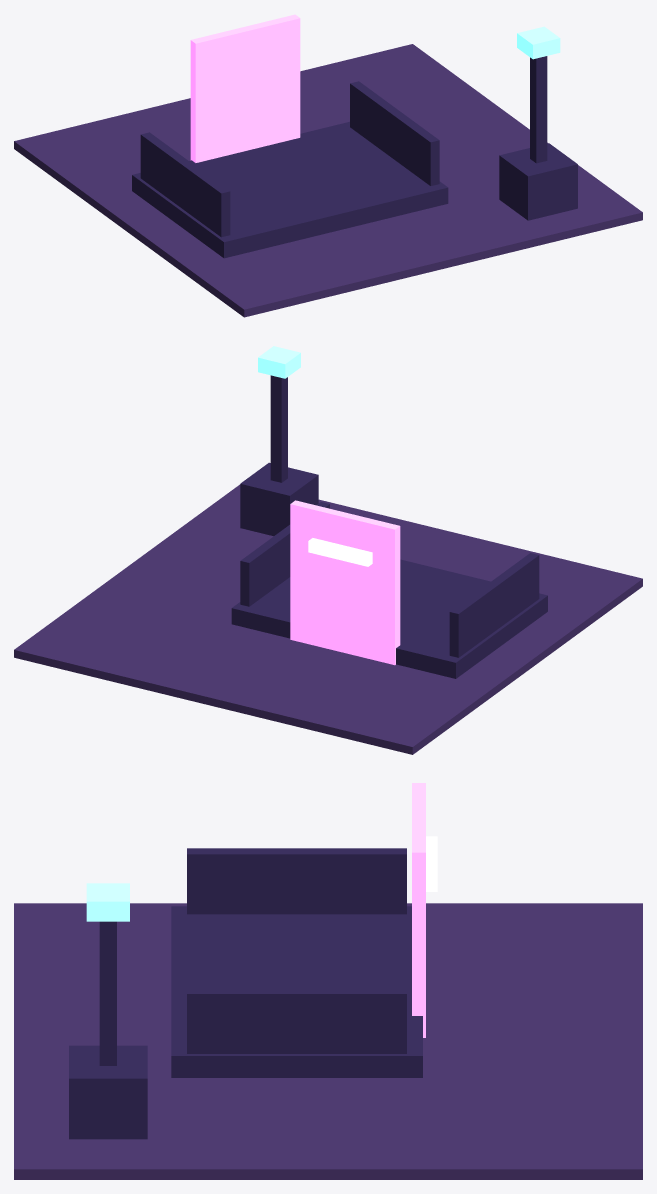
The model's file is 14_subway_corner_entrance.glb.
3 views of the same model, one above another, from view 1: azimuth 30°, elevation 25°; view 2: azimuth 150°, elevation 25°; view 3: azimuth 270°, elevation 25° (orthographic). The views are drawn at different scales.
Parts seen in each view (by area): view 1: plaza_0, stair_block_1, metro_sign_4, rail_1_2, rail_2_3, utility_box_6, light_pole_7, light_8; view 2: plaza_0, metro_sign_4, stair_block_1, rail_1_2, utility_box_6, rail_2_3, light_pole_7, light_8, plate_5; view 3: plaza_0, stair_block_1, rail_1_2, rail_2_3, utility_box_6, metro_sign_4, light_pole_7, light_8, plate_5.
Part boxes in pixels (box(x1,y1,x2,y2)): plaza_0: box(14, 44, 642, 317); stair_block_1: box(132, 121, 448, 258); metro_sign_4: box(190, 14, 300, 162); rail_1_2: box(140, 132, 230, 237); rail_2_3: box(350, 81, 439, 185); utility_box_6: box(499, 143, 577, 220); light_pole_7: box(530, 56, 547, 163); light_8: box(517, 26, 560, 59); plaza_0: box(14, 484, 642, 754); metro_sign_4: box(290, 500, 400, 665); stair_block_1: box(231, 559, 547, 678); rail_1_2: box(449, 553, 539, 657); utility_box_6: box(240, 462, 318, 536); rail_2_3: box(240, 502, 329, 606); light_pole_7: box(270, 375, 287, 482); light_8: box(258, 346, 300, 378); plate_5: box(308, 538, 372, 566); plaza_0: box(14, 903, 642, 1179); stair_block_1: box(171, 906, 422, 1077); rail_1_2: box(187, 848, 406, 914); rail_2_3: box(187, 988, 406, 1053); utility_box_6: box(69, 1045, 147, 1139); metro_sign_4: box(412, 783, 425, 1037); light_pole_7: box(99, 921, 116, 1065); light_8: box(86, 883, 129, 921); plate_5: box(426, 836, 437, 891).
Size of the model in its own units: 8 by 3.38 by 8.
